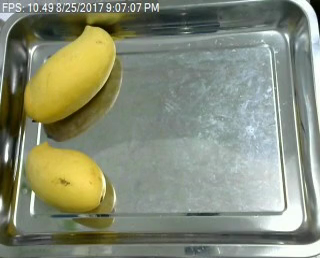Mango: (22, 24, 115, 127), (23, 142, 106, 216)
